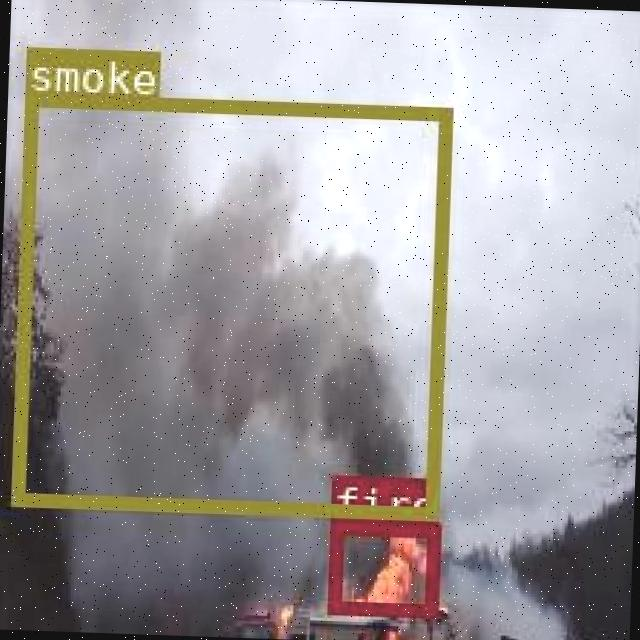fire: (327, 520, 438, 615)
smoke: (9, 91, 450, 518)
